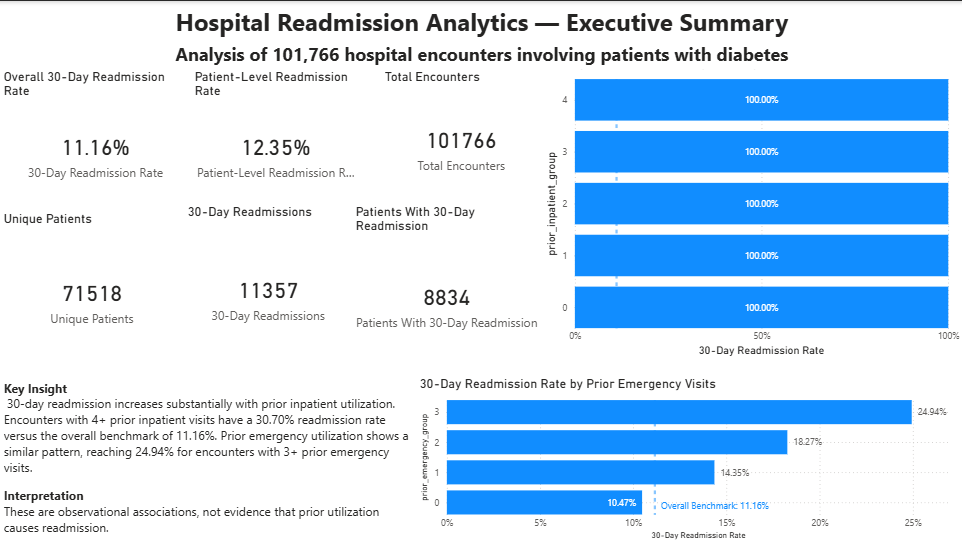

The dashboard page shown, as its layout file describes it:
{"tool":"powerbi","page":{"name":"Executive Summary","canvas":[1280,720],"ordinal":3},"visuals":[{"type":"card","title":"Overall 30-Day Readmission Rate","fields":{"Values":["hospital_readmission_powerbi.30-Day Readmission Rate"]},"box":[0,90.7,253.6,188.1],"z":0},{"type":"card","title":"Patient-Level Readmission Rate","fields":{"Values":["hospital_readmission_powerbi.Patient-Level Readmission Rate"]},"box":[253.6,90.7,225.1,188.1],"z":1000},{"type":"card","title":"Total Encounters","fields":{"Values":["hospital_readmission_powerbi.Total Encounters"]},"box":[505.6,90.7,213.3,188.1],"z":2000},{"type":"card","title":"Unique Patients","fields":{"Values":["hospital_readmission_powerbi.Unique Patients"]},"box":[0,279.3,244.2,218.3],"z":3000},{"type":"card","title":"30-Day Readmissions","fields":{"Values":["hospital_readmission_powerbi.30-Day Readmissions"]},"box":[244.2,270.1,223.8,227.5],"z":4000},{"type":"card","title":"Patients With 30-Day Readmission","fields":{"Values":["hospital_readmission_powerbi.Patients With 30-Day Readmission"]},"box":[468,270.1,251.6,227.5],"z":5000},{"type":"hundredPercentStackedBarChart","title":"30-Day Readmission Rate by Prior Inpatient Visits","fields":{"Category":["hospital_readmission_powerbi.prior_inpatient_group"],"Y":["hospital_readmission_powerbi.30-Day Readmission Rate"]},"box":[719,72.2,561,404.8],"z":6000},{"type":"clusteredBarChart","title":"30-Day Readmission Rate by Prior Emergency Visits","fields":{"Category":["hospital_readmission_powerbi.prior_emergency_group"],"Y":["hospital_readmission_powerbi.30-Day Readmission Rate"]},"box":[553.1,497.6,726.9,222],"z":7000},{"type":"textbox","box":[0,497.6,553.1,222],"z":8000},{"type":"textbox","box":[0,0,1280,72.2],"z":9000},{"type":"textbox","box":[0,48.7,1280,42],"z":9001}]}

Visuals, with their boxes in screenshot pixels (x1, y1, x2, y2), scaled from the page's 1280x720 canvas onto the 962x542 screenshot:
"Overall 30-Day Readmission Rate" card: select_region(0, 68, 191, 210)
"Patient-Level Readmission Rate" card: select_region(191, 68, 360, 210)
"Total Encounters" card: select_region(380, 68, 540, 210)
"Unique Patients" card: select_region(0, 210, 184, 375)
"30-Day Readmissions" card: select_region(184, 203, 352, 375)
"Patients With 30-Day Readmission" card: select_region(352, 203, 541, 375)
"30-Day Readmission Rate by Prior Inpatient Visits" hundredPercentStackedBarChart: select_region(540, 54, 961, 359)
"30-Day Readmission Rate by Prior Emergency Visits" clusteredBarChart: select_region(416, 375, 961, 541)
textbox: select_region(0, 375, 416, 541)
textbox: select_region(0, 0, 961, 54)
textbox: select_region(0, 37, 961, 68)
